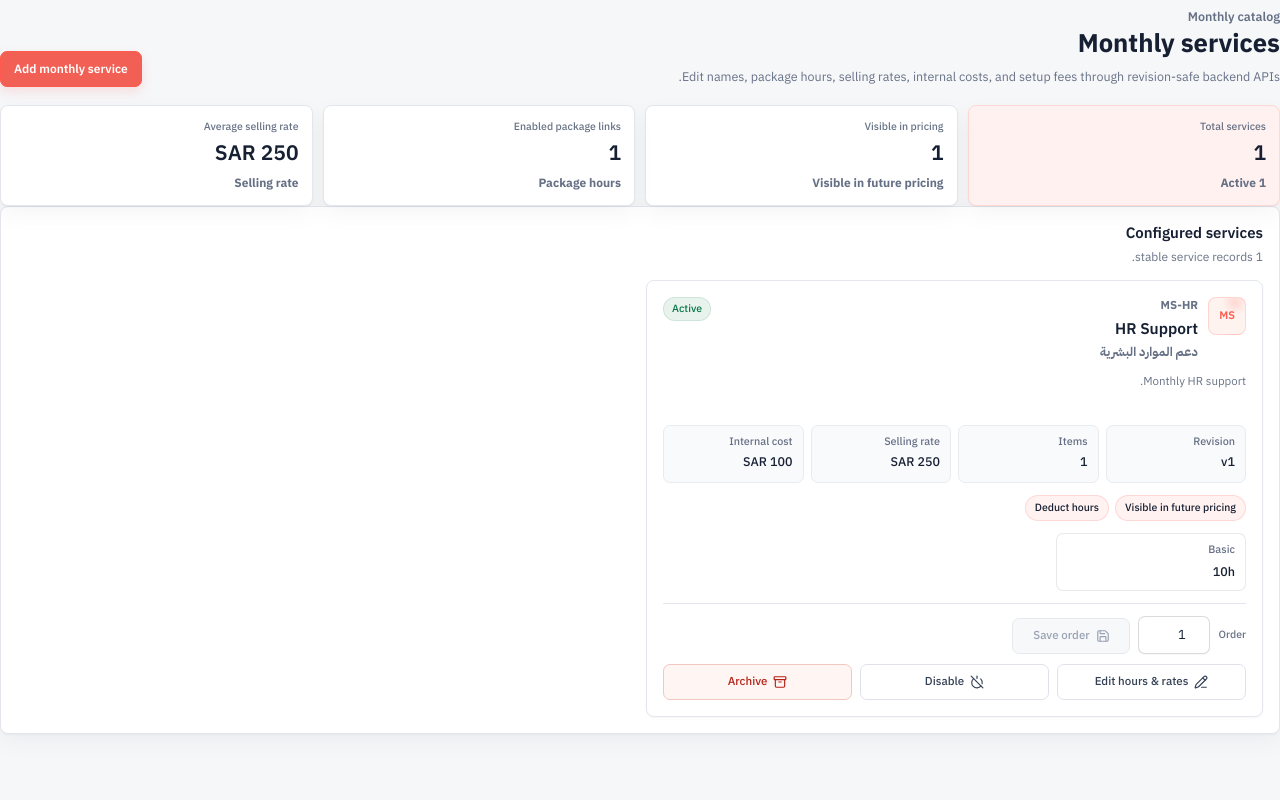
Admin catalog UI › renders monthly services without a duplicate intro and opens the service form
Expected: the number of headings "Configured services" is 1, [1126,223,1263,244]
Expected: the heading "HR Support" is shown, [1115,317,1198,340]
What coordinates should you click on to do the following:
click the button "Add monthly service"
I would click on:
 (71, 69)
Its box is [0,51,142,87].
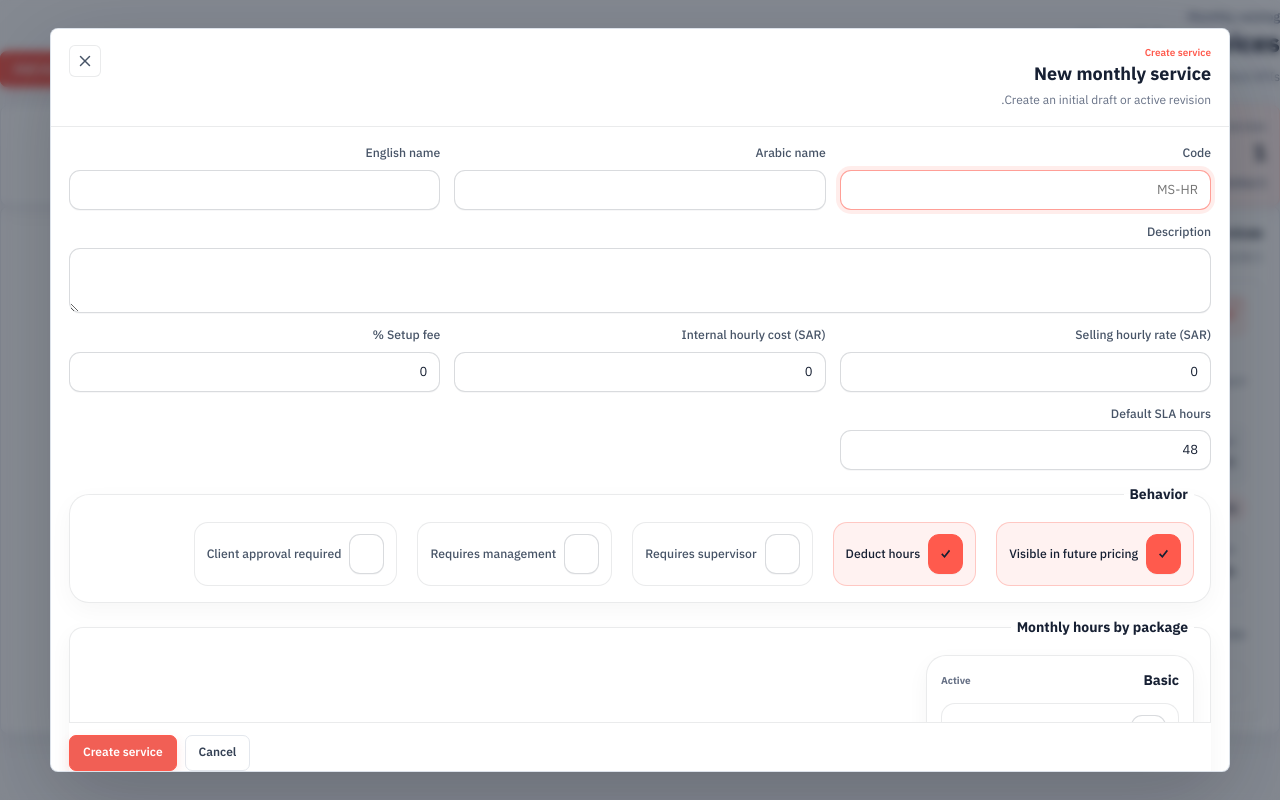
Result: the dialog "New monthly service" is shown
Result: the heading "New monthly service" is shown at [1034,60,1211,86]
Result: the field labelled "Code" is shown at [840,170,1211,210]
